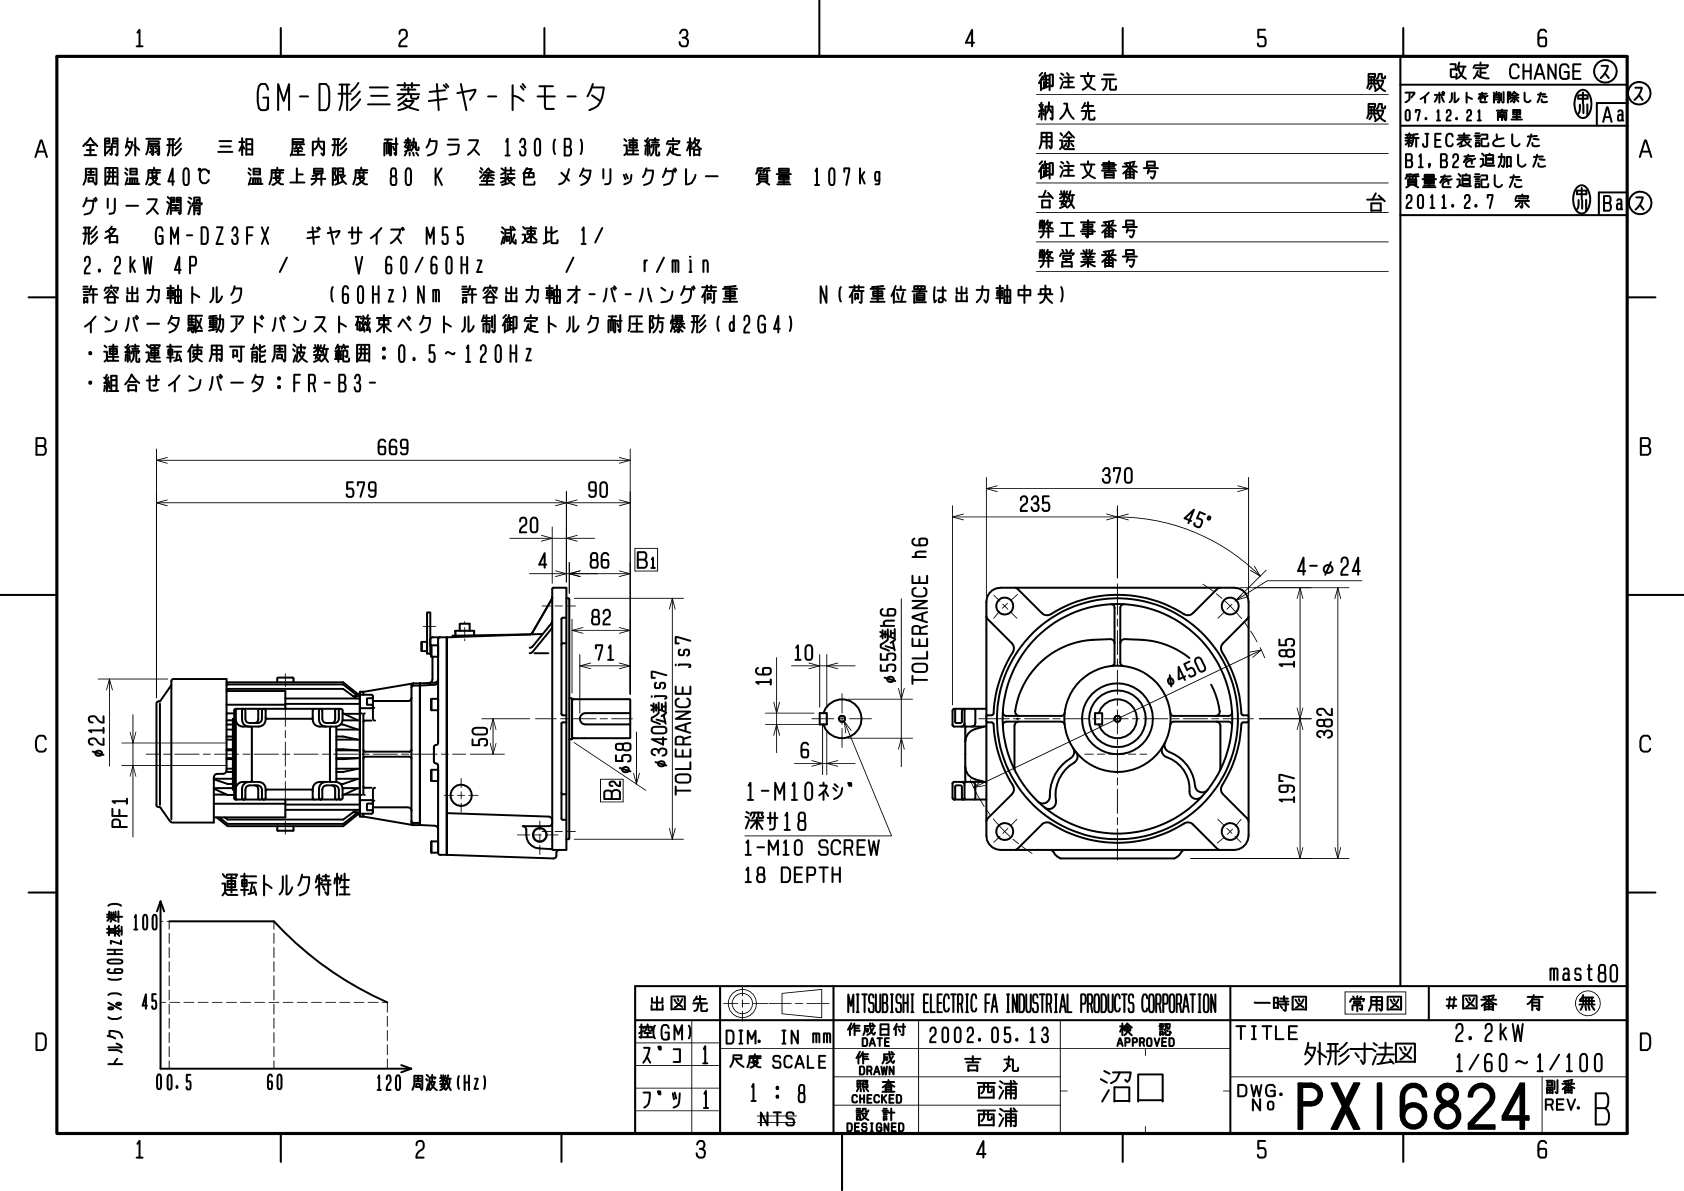GM_D_制御屋内_三相_フランジ: (64, 402, 1375, 967)
